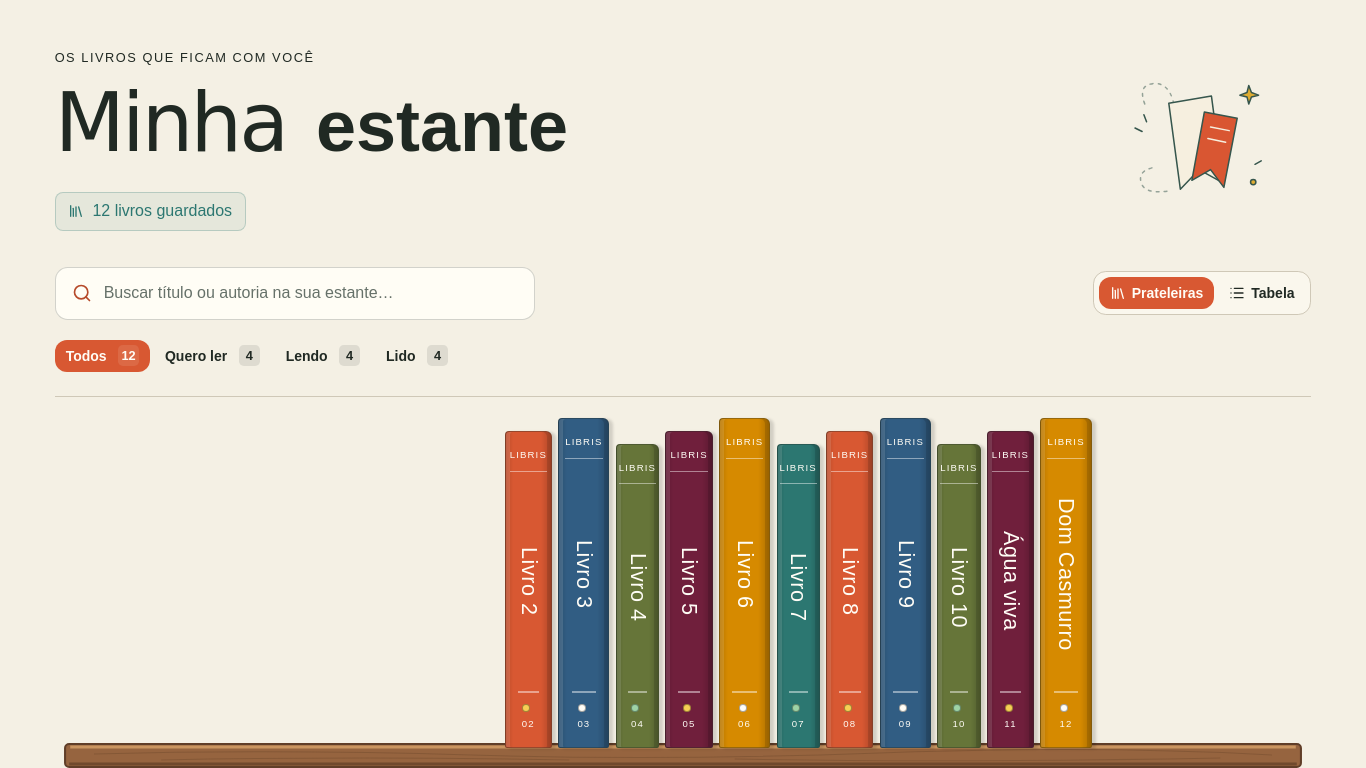
Test case: ordenação na tabela da estante › ajusta a última página após remover um livro e mantém a ordem
This screenshot has width=1366, height=768.
Click the button "Tabela": {"x": 1262, "y": 293} x1=1218 y1=277 x2=1306 y2=309
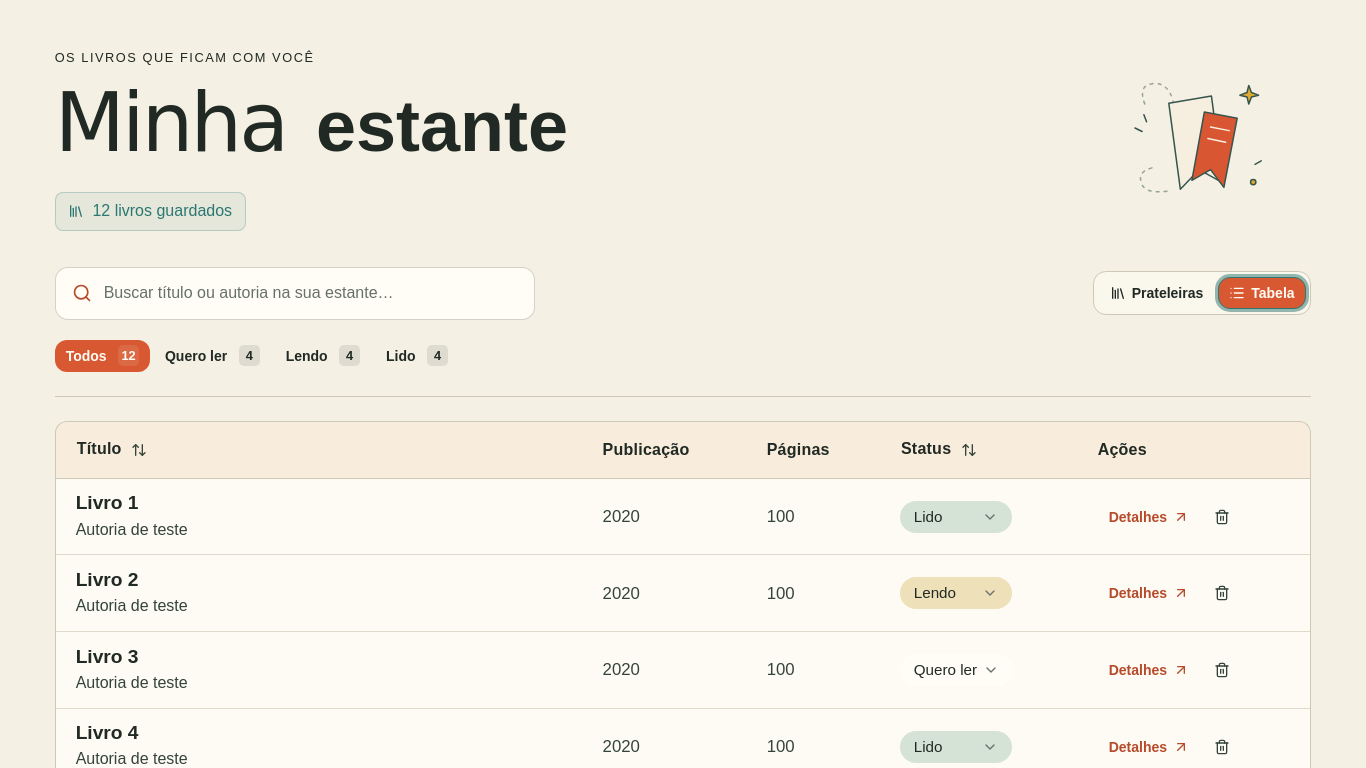
Click the button with aria-label "Ordenar por título: A a Z": {"x": 112, "y": 450} x1=68 y1=428 x2=156 y2=472
(page scrolled)
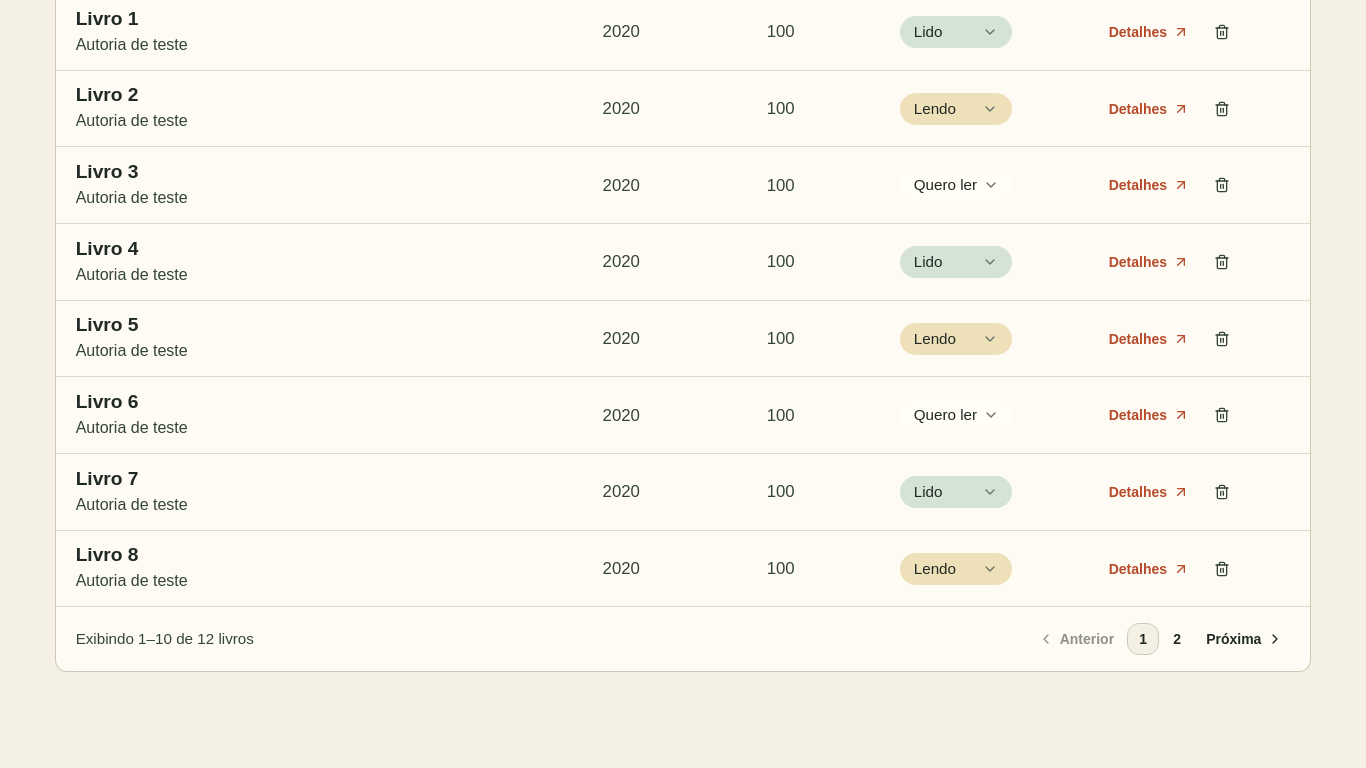
Click the button with aria-label "Próxima página": {"x": 1243, "y": 639} x1=1195 y1=623 x2=1290 y2=655
(page scrolled)
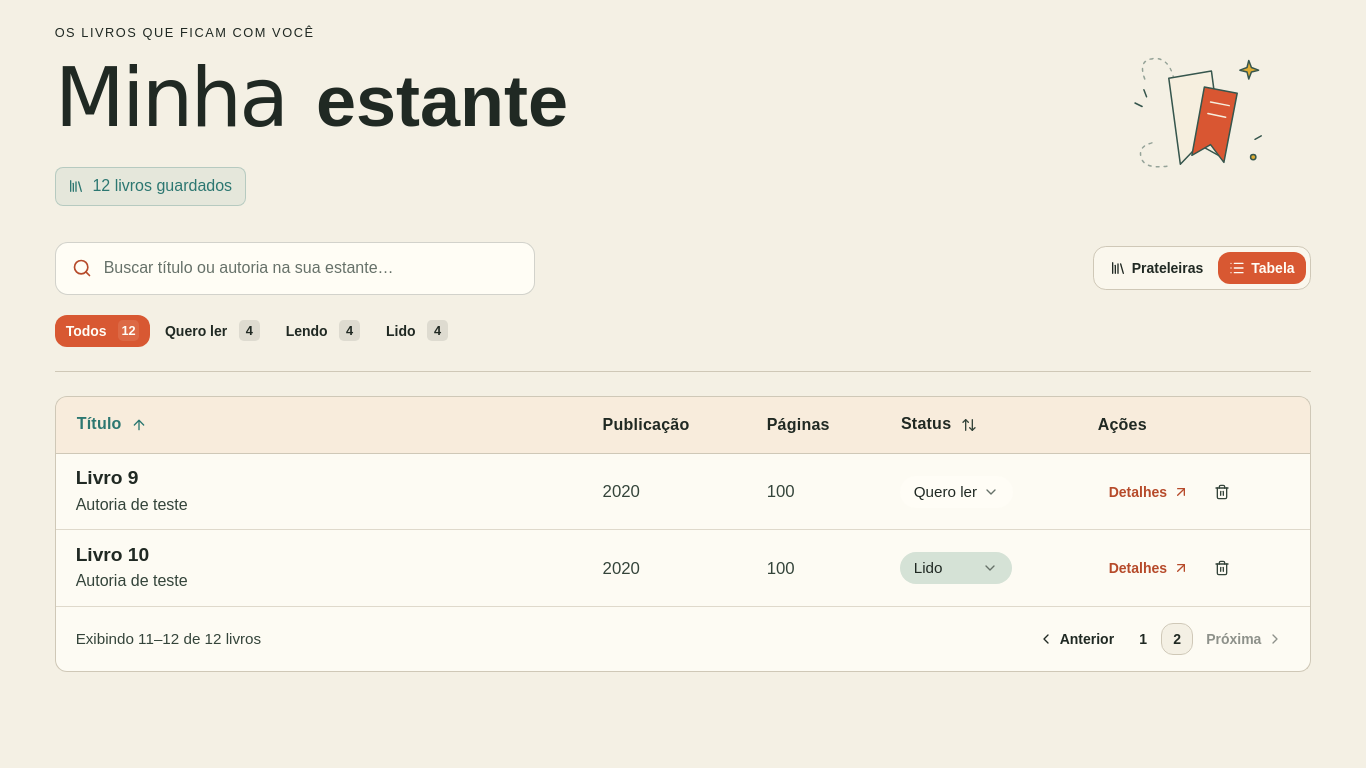
Click the button named "Remover Livro 10 da estante": {"x": 1222, "y": 568} x1=1206 y1=552 x2=1238 y2=584
(page scrolled)
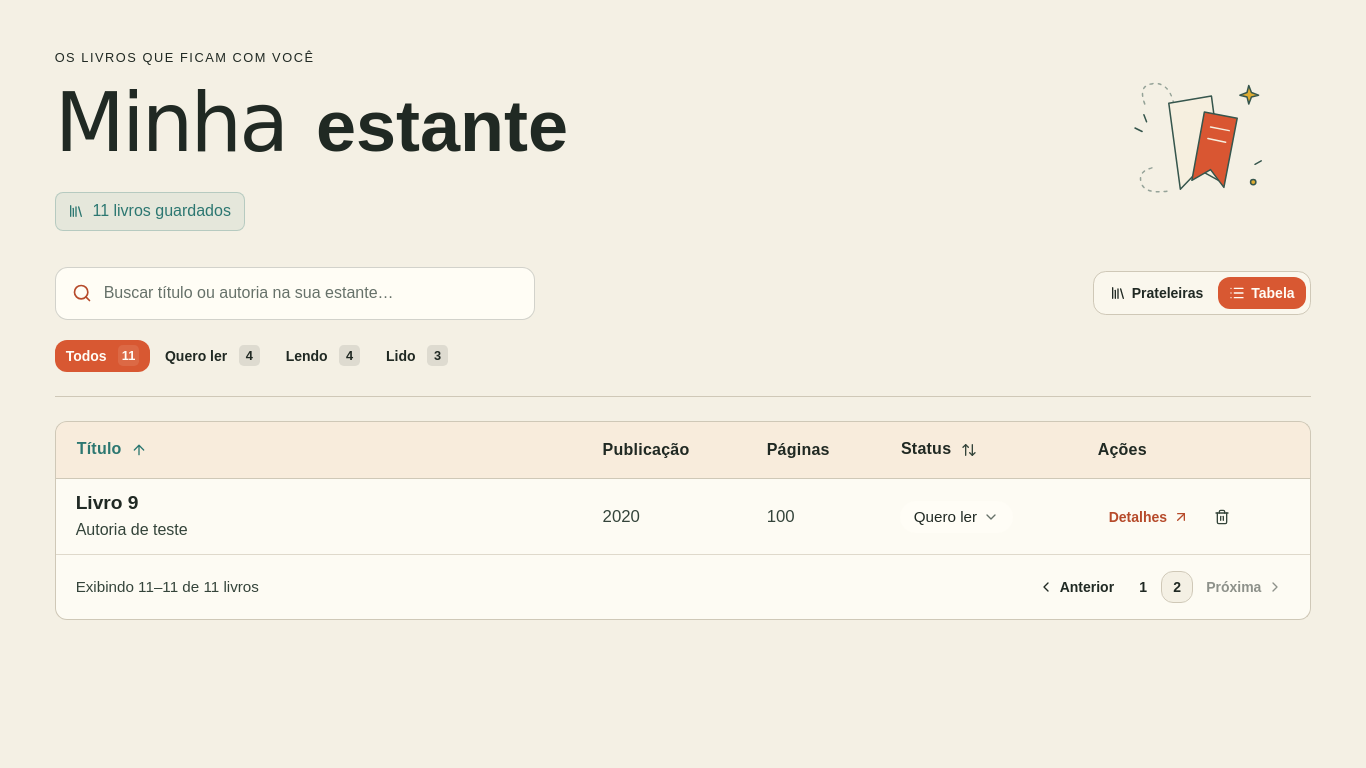
Click the button named "Remover Livro 9 da estante": {"x": 1222, "y": 517} x1=1206 y1=501 x2=1238 y2=533
(page scrolled)
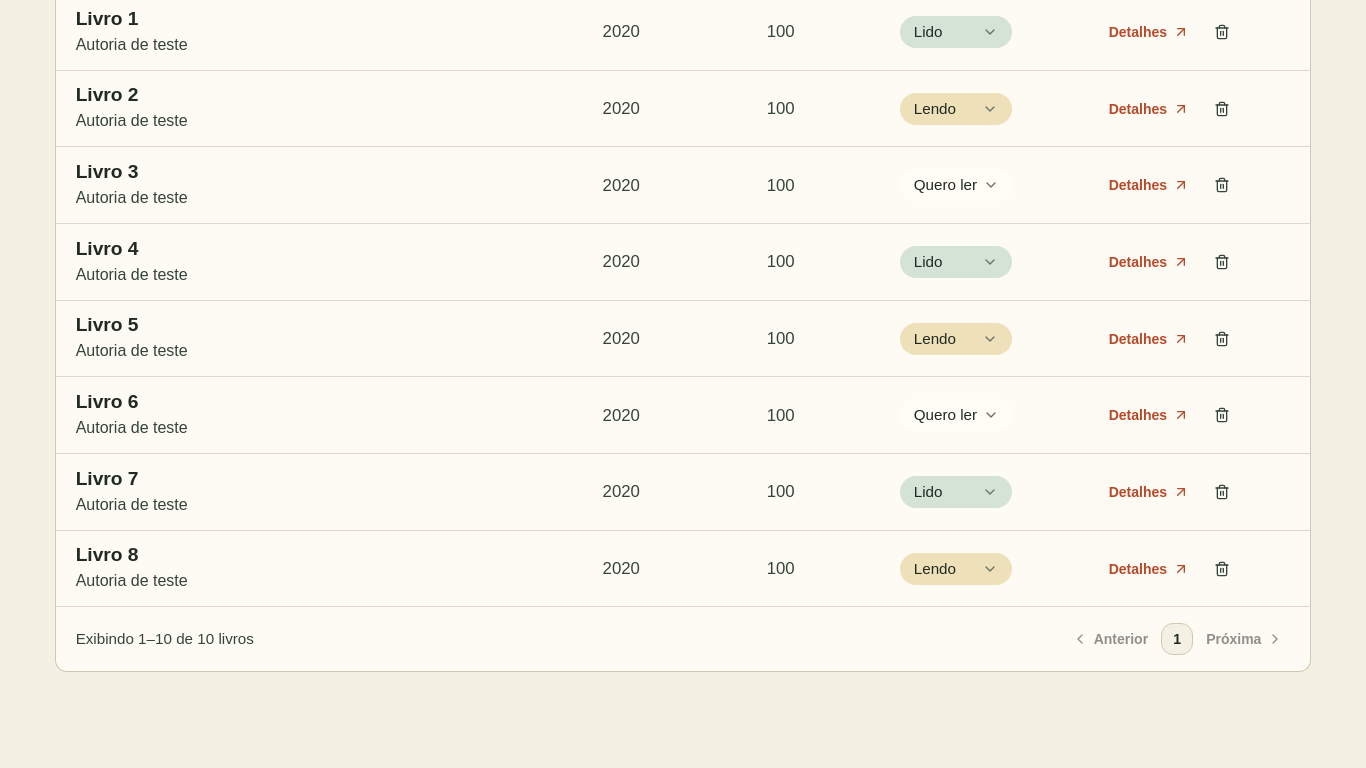
expect the button with aria-label "Próxima página" is disabled: met, box x1=1195 y1=623 x2=1290 y2=655
expect the text "Exibindo 1–10 de 10 livros" is shown: met, box x1=76 y1=628 x2=254 y2=651
expect the button with aria-label "Página anterior" is disabled: met, box x1=1065 y1=623 x2=1159 y2=655
